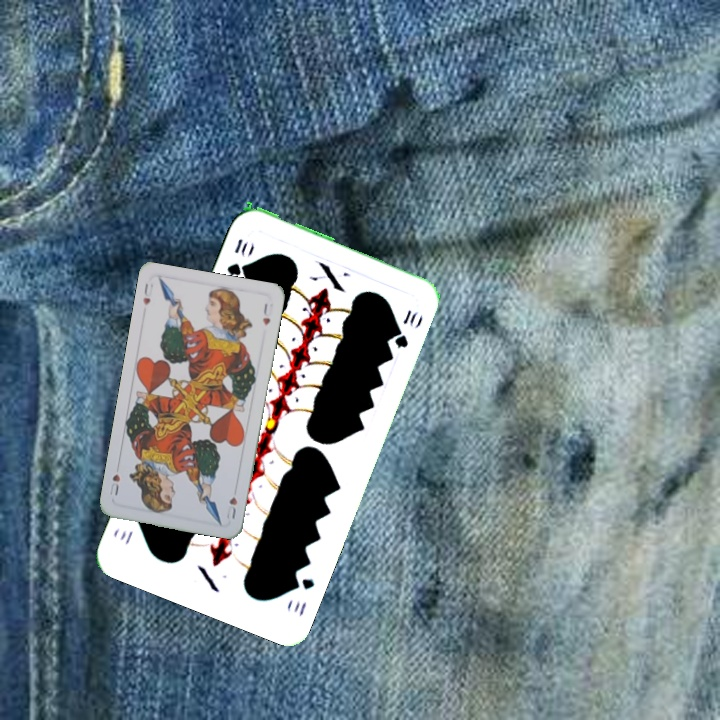G10: (222, 234, 252, 279), (288, 573, 317, 619)
HU: (222, 493, 240, 521), (139, 279, 156, 308)
